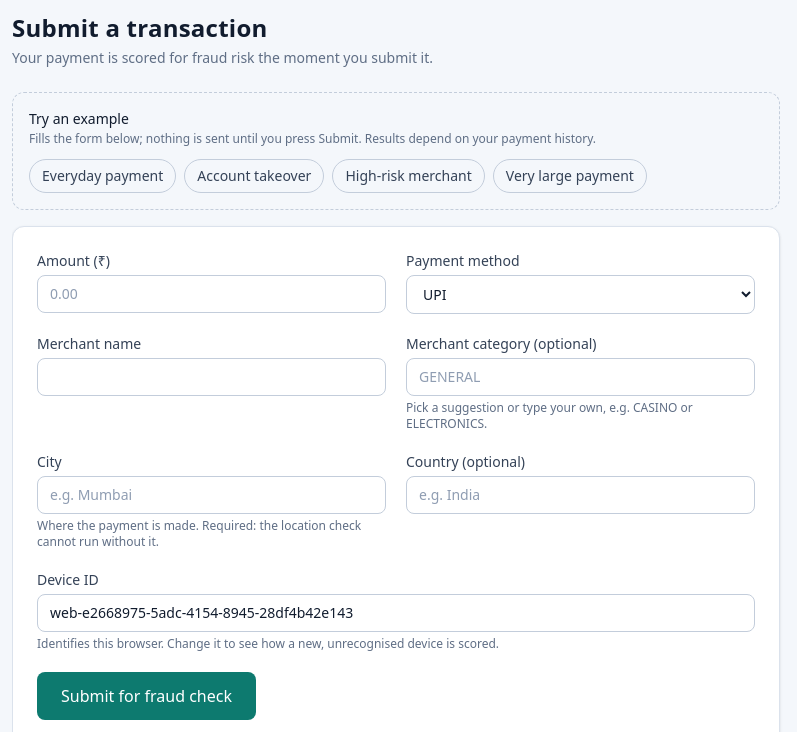
Test: SubmitTransaction › validates the required fields client-side
The width and height of the screenshot is (797, 732).
Click the button "Submit for fraud check" at (146, 696), box [37, 672, 256, 720]
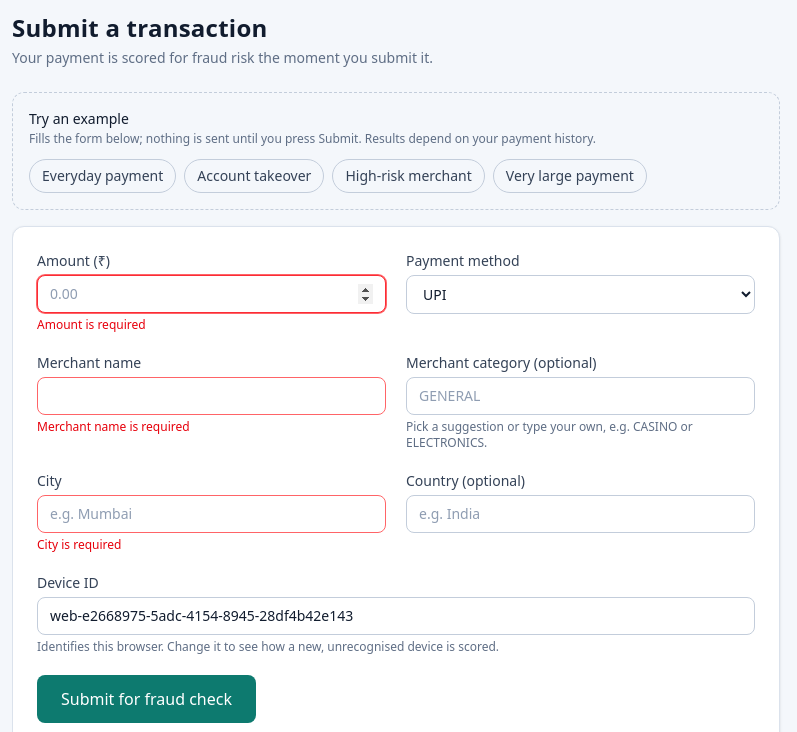
Result: the text "Amount is required" is shown at [37, 316, 146, 333]
Result: the text "Merchant name is required" is shown at [37, 418, 190, 435]
Result: the text "City is required" is shown at [37, 536, 122, 553]
